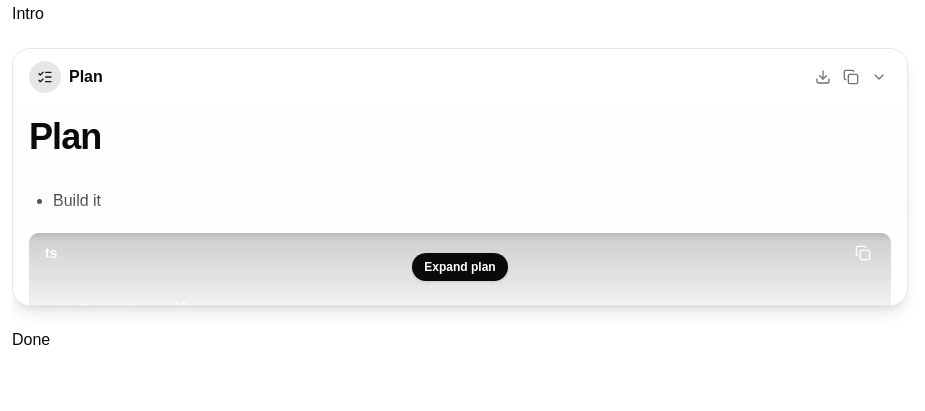
MarkdownText › renders proposed_plan tags as a markdown plan card
Expected: the element showing "Plan" is shown, [13,49,907,105]
Expected: the element showing "Plan Build it ts const answer = 42;" is shown, [13,105,907,305]
Click the button "Expand plan". click: (460, 267)
box: [412,253,508,281]
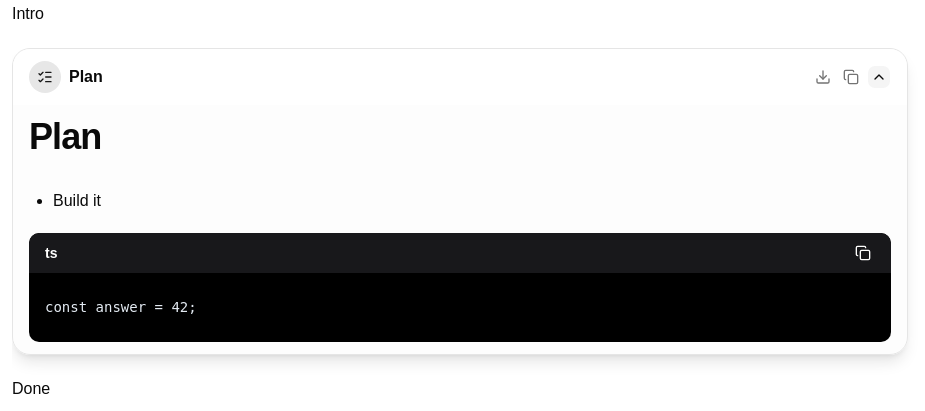
Result: the 3rd button named "Collapse plan" is expanded
Result: the button "Expand plan" is gone
Click the 3rd button named "Collapse plan". click: (879, 77)
box: [867,65,891,89]
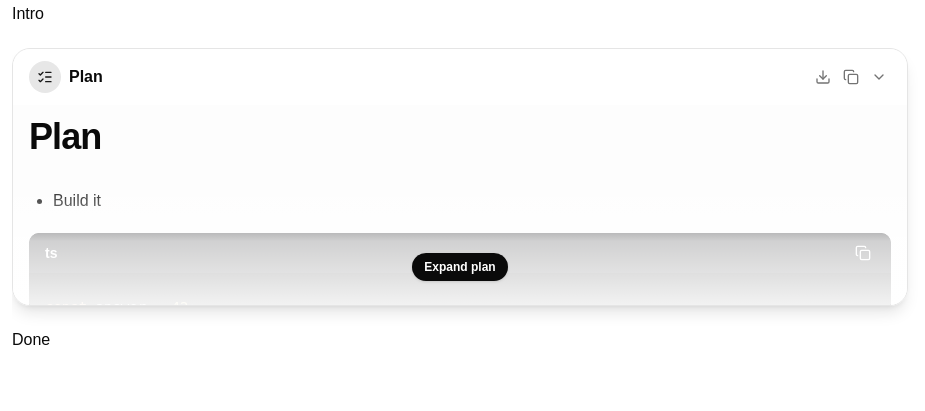
Result: the 3rd button named "Expand plan" is collapsed at [867,65,891,89]
Result: the button "Expand plan" is shown at [412,253,508,281]
